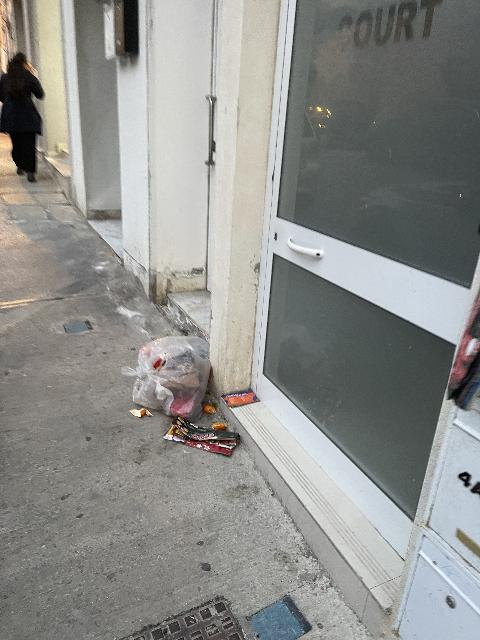Organic -White-: (123, 336, 210, 420)
Other: (163, 419, 240, 455), (222, 390, 259, 407)
